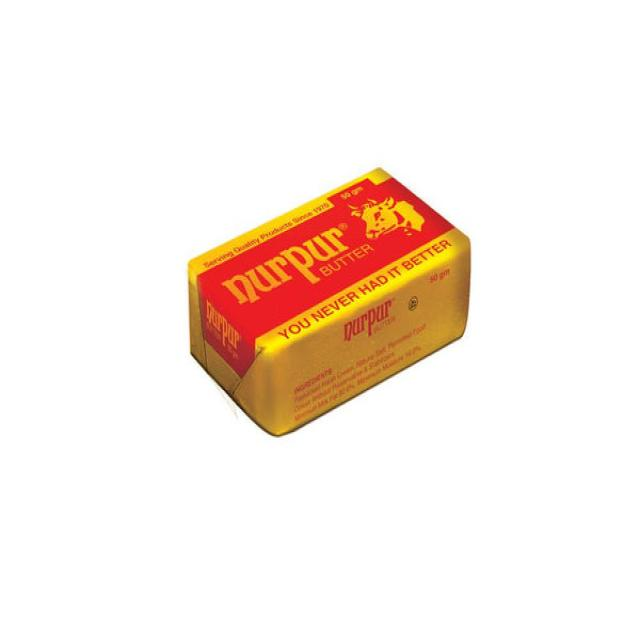butter: (187, 165, 470, 436)
